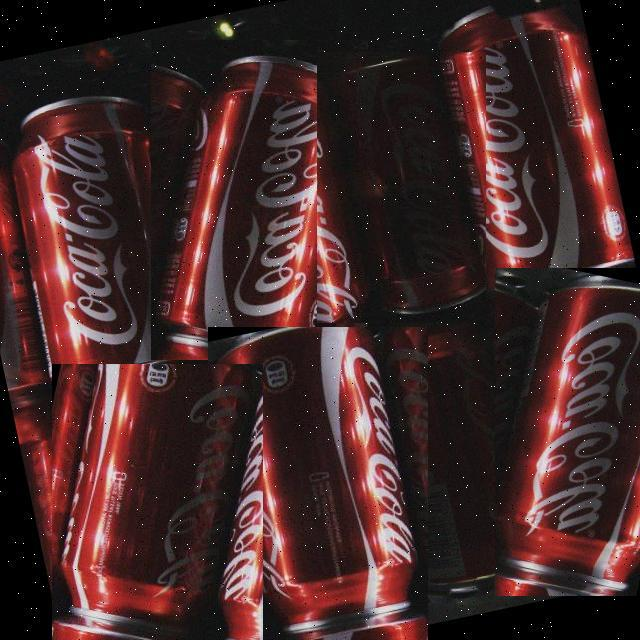coca-cola: (151, 40, 368, 360), (208, 327, 428, 640), (0, 83, 207, 390), (428, 0, 635, 295), (52, 364, 263, 640), (368, 316, 551, 625), (495, 268, 640, 596), (317, 52, 486, 323)
